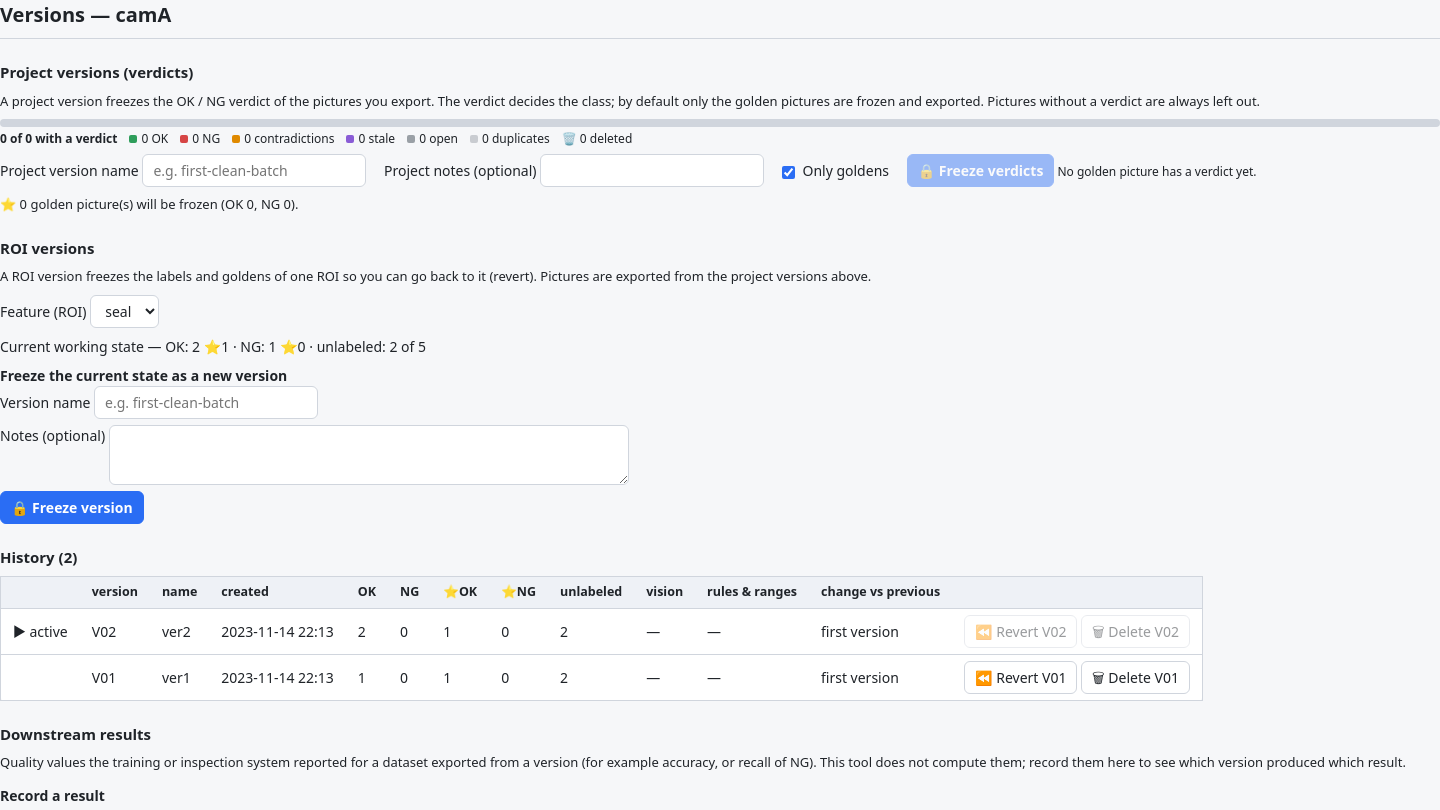
it: delete is disabled for the active version and needs confirmation
Check: the heading "History (2)" is shown, box [0,546,77,566]
Check: the button "🗑 Delete V02" is disabled, box [1081,615,1190,648]
Click the button "🗑 Delete V01" at (1136, 677), box [1081,661,1190,694]
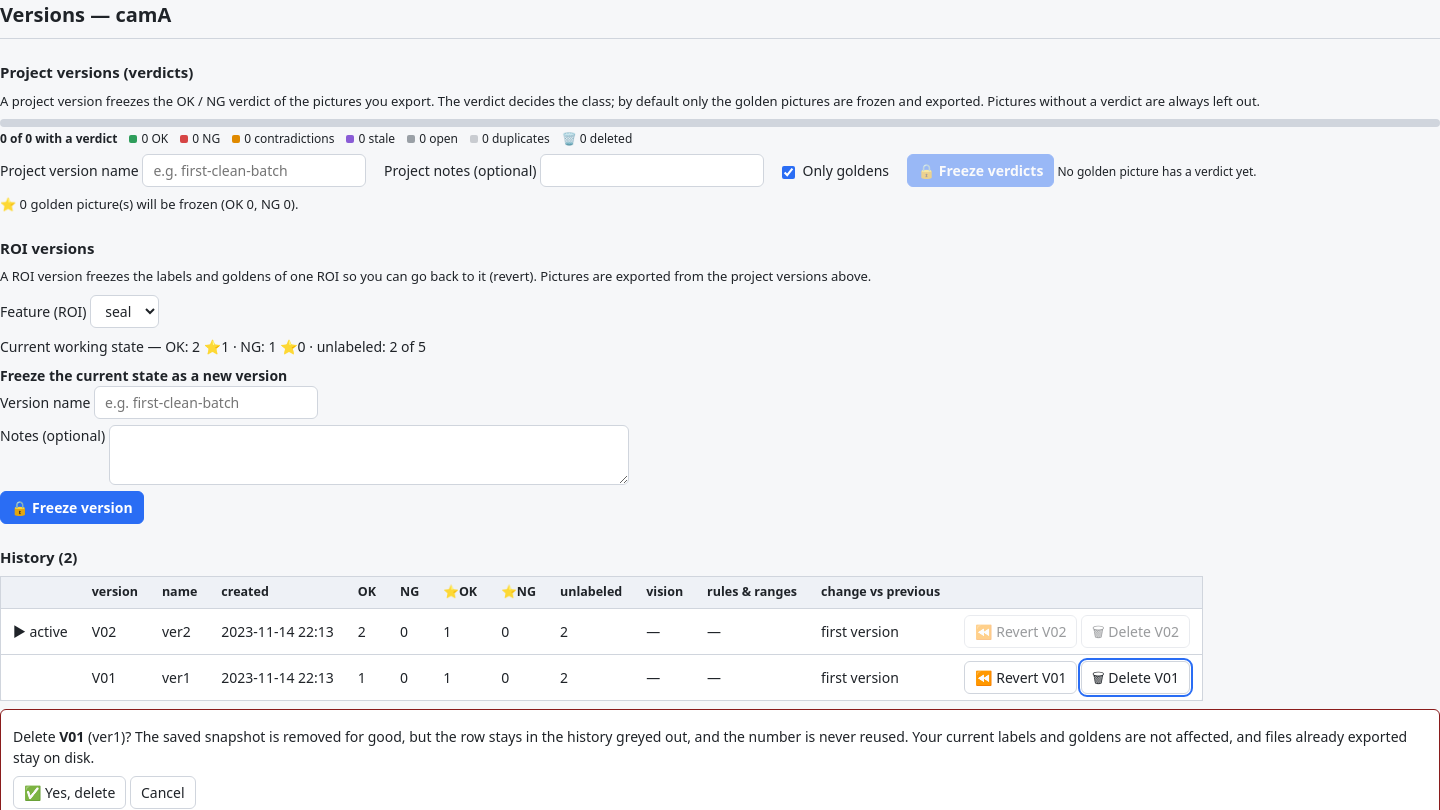
Click the button "Cancel" at (163, 792), box [130,776,196,809]
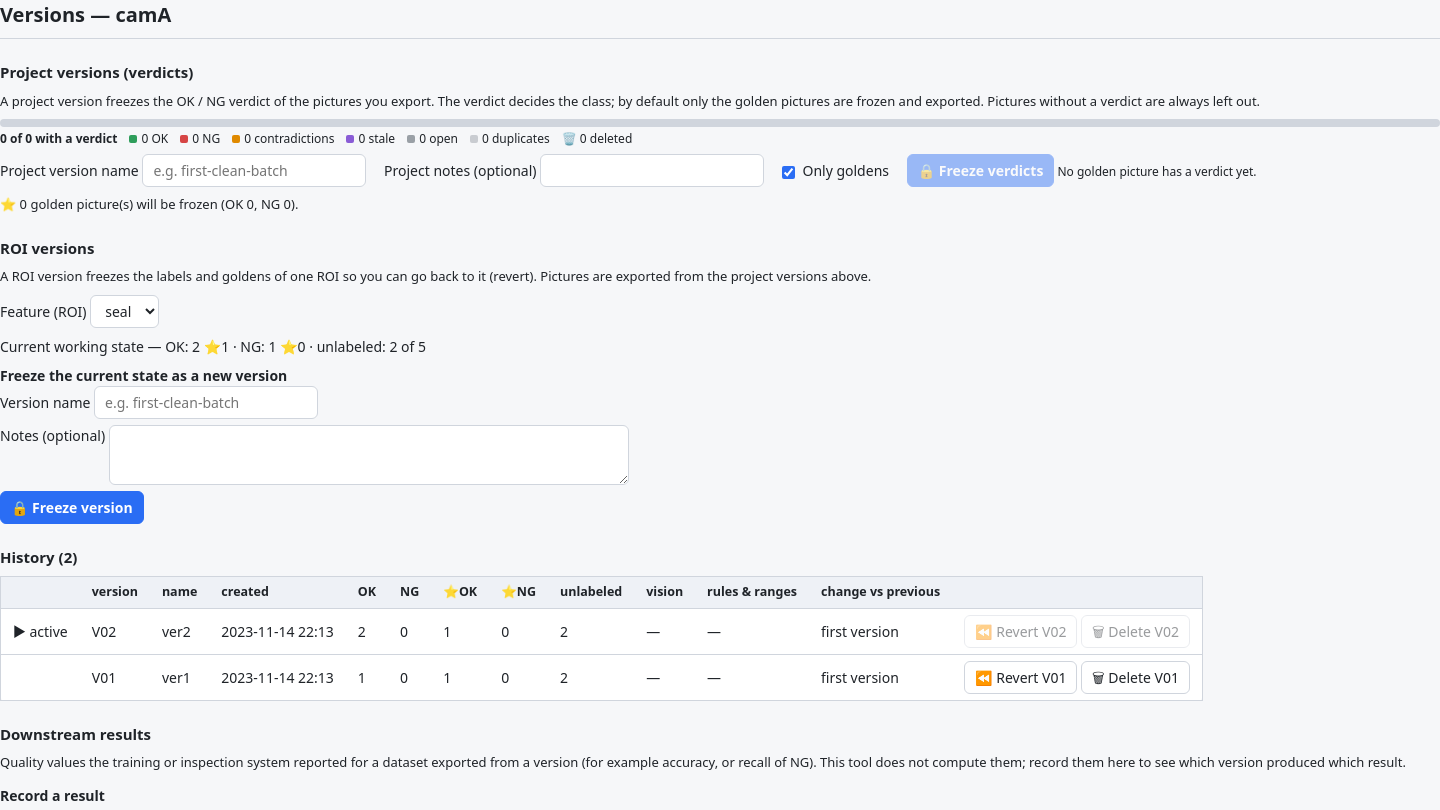
Click the button "🗑 Delete V01" at (1136, 677), box [1081,661,1190,694]
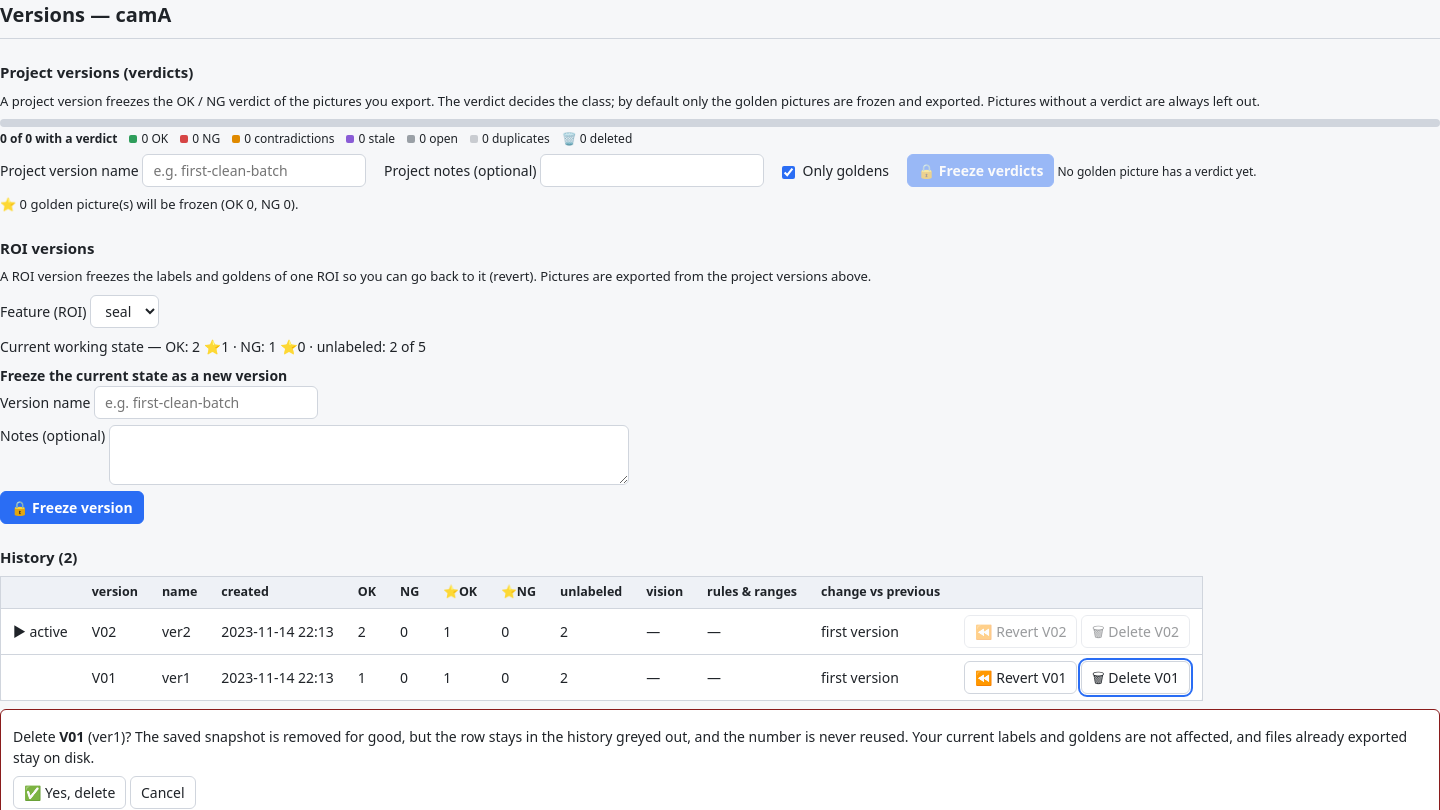
Click the button "✅ Yes, delete" at (70, 792), box [13,776,126,809]
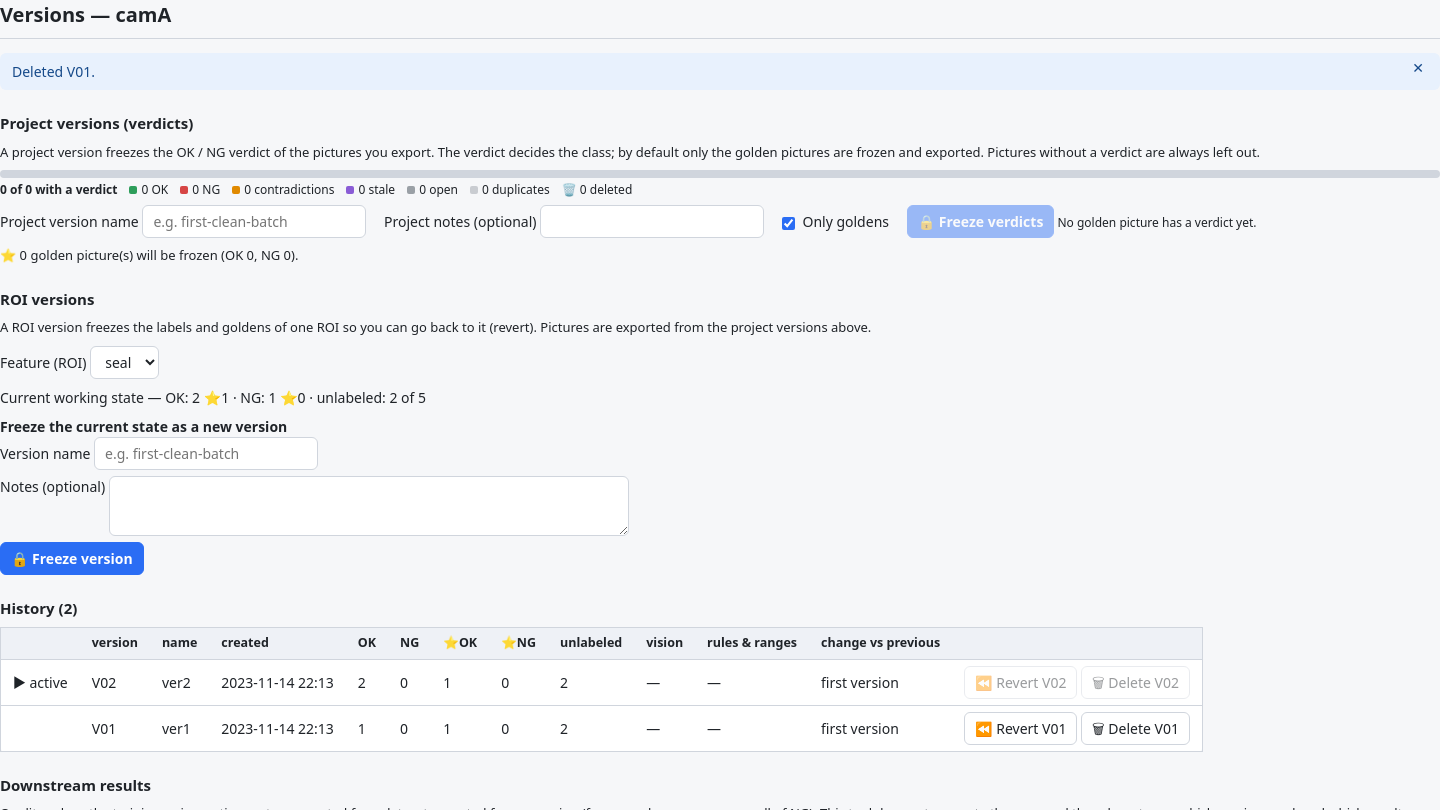
Check: the text "Deleted V01." is shown, box [12,62,95,81]
